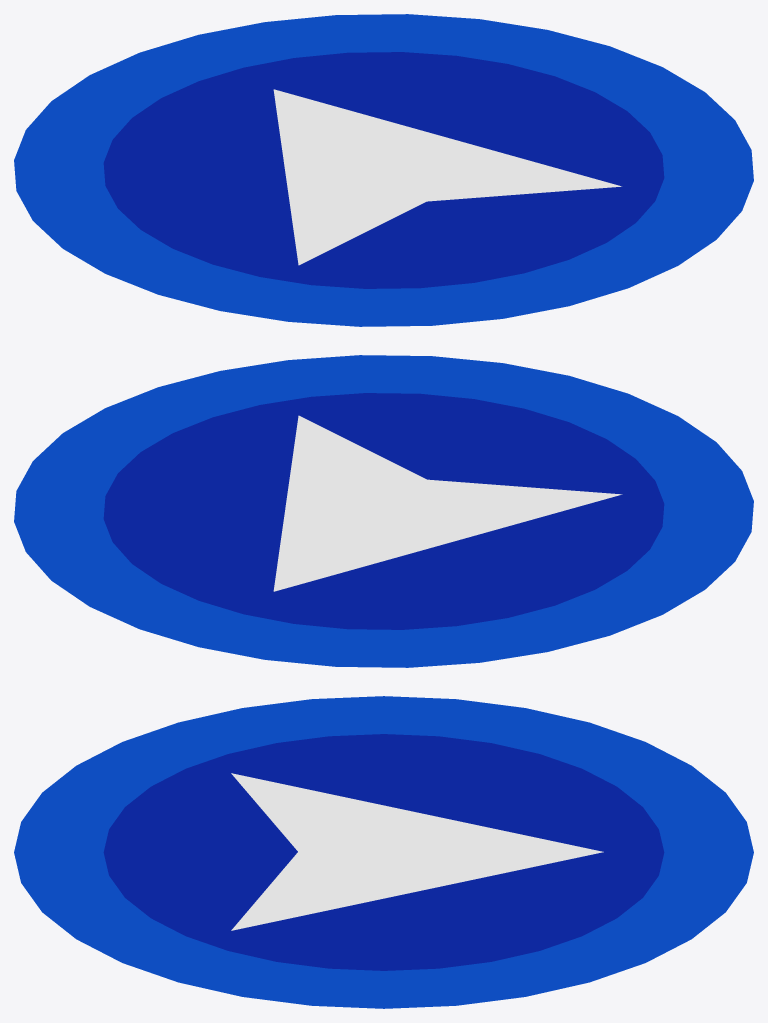
Rendered from circlePlane2.fbx.
3 views of the same model, one above another, from view 1: azimuth 30°, elevation 25°; view 2: azimuth 150°, elevation 25°; view 3: azimuth 270°, elevation 25° (orthographic).
Parts seen in each view (by area): view 1: Disc, Tube, Polygon; view 2: Disc, Tube, Polygon; view 3: Disc, Tube, Polygon.
Boxes of the visible parts, x1,y1,x2,y2 form: Disc: (103,52,664,288); Tube: (14,14,753,326); Polygon: (273,89,621,265); Disc: (103,393,664,629); Tube: (14,355,753,667); Polygon: (273,415,622,591); Disc: (103,734,664,970); Tube: (14,696,753,1008); Polygon: (231,773,603,930).
Bounding box in the file's own units: 1319 × 3.48 × 1319.
